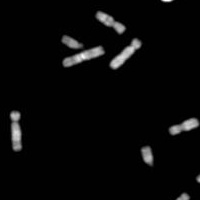chromosome: (109, 37, 143, 71), (63, 46, 107, 68), (96, 10, 126, 33), (10, 111, 24, 153), (168, 117, 199, 135), (61, 32, 83, 49), (141, 144, 156, 168), (159, 192, 190, 200), (159, 0, 179, 3), (197, 173, 200, 186)
